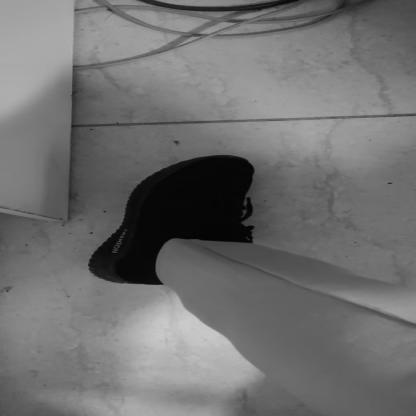ankle: (158, 247, 164, 251)
heel: (108, 278, 116, 281)
left_foot: (89, 157, 256, 287)
pinky: (178, 172, 186, 175)
toe: (245, 166, 250, 168)
